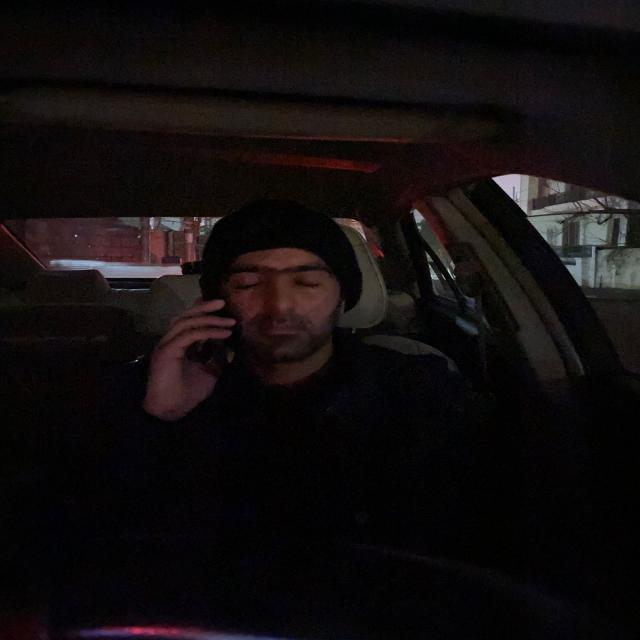mobile: (192, 287, 244, 362)
person: (217, 207, 352, 363)
